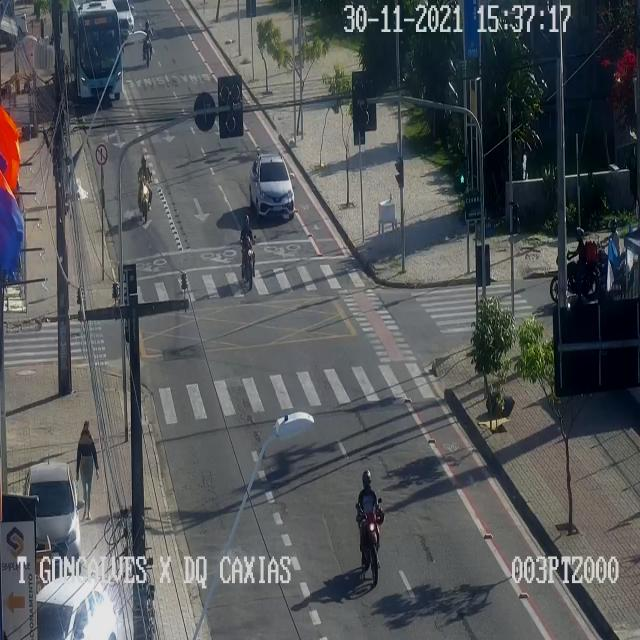Bus: (70, 0, 122, 106)
Car: (23, 460, 85, 570), (37, 575, 119, 639), (248, 154, 296, 222), (111, 0, 140, 39)
Motorcycle: (550, 226, 606, 305), (354, 469, 384, 584), (592, 218, 632, 299), (240, 216, 257, 292), (137, 155, 155, 225), (142, 17, 154, 70)
